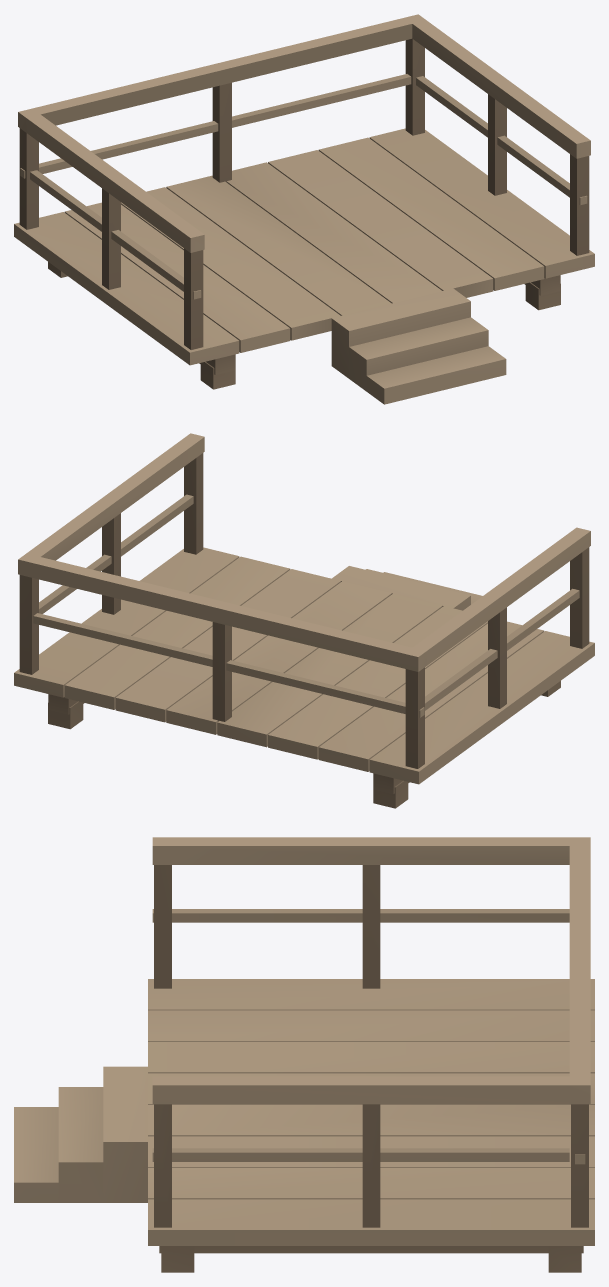
File: view_deck_low.glb
3 views of the same model, one above another, from view 1: azimuth 30°, elevation 25°; view 2: azimuth 150°, elevation 25°; view 3: azimuth 270°, elevation 25° (orthographic). The views are drawn at different scales.
Parts seen in each view (by area): view 1: geometry_view_deck; view 2: geometry_view_deck; view 3: geometry_view_deck.
Part boxes in pixels (box(x1,y1,x2,y2)): geometry_view_deck: box(14, 14, 594, 404); geometry_view_deck: box(14, 433, 594, 808); geometry_view_deck: box(14, 837, 594, 1272).
Size of the model in its own units: 3.99 by 1.51 by 3.9.
